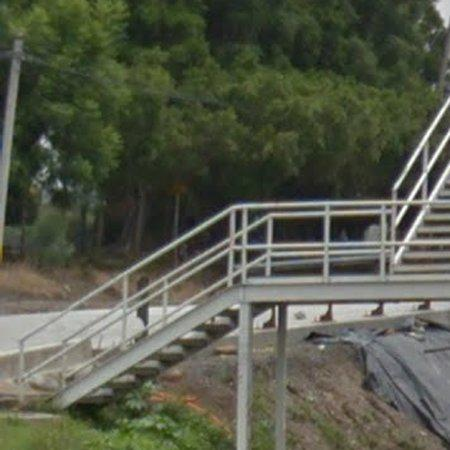stairs: (17, 246, 249, 410), (397, 177, 450, 274)
